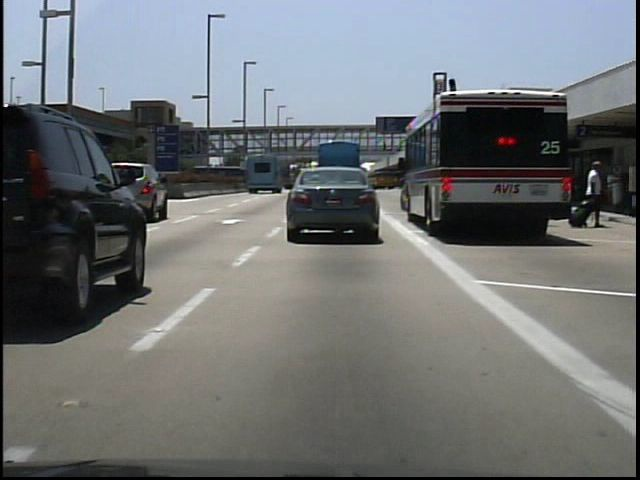person: (577, 157, 605, 230), (380, 137, 393, 157)
